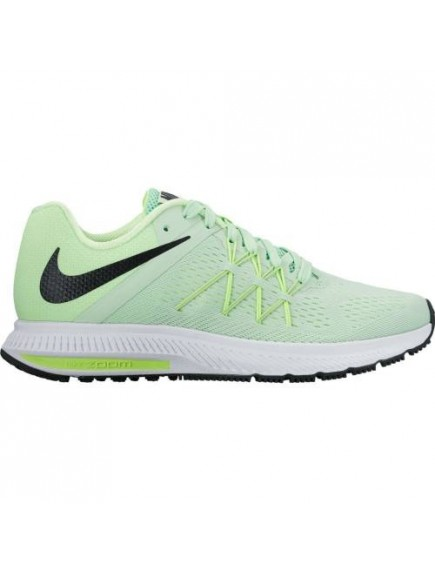nike: (37, 235, 195, 308)
